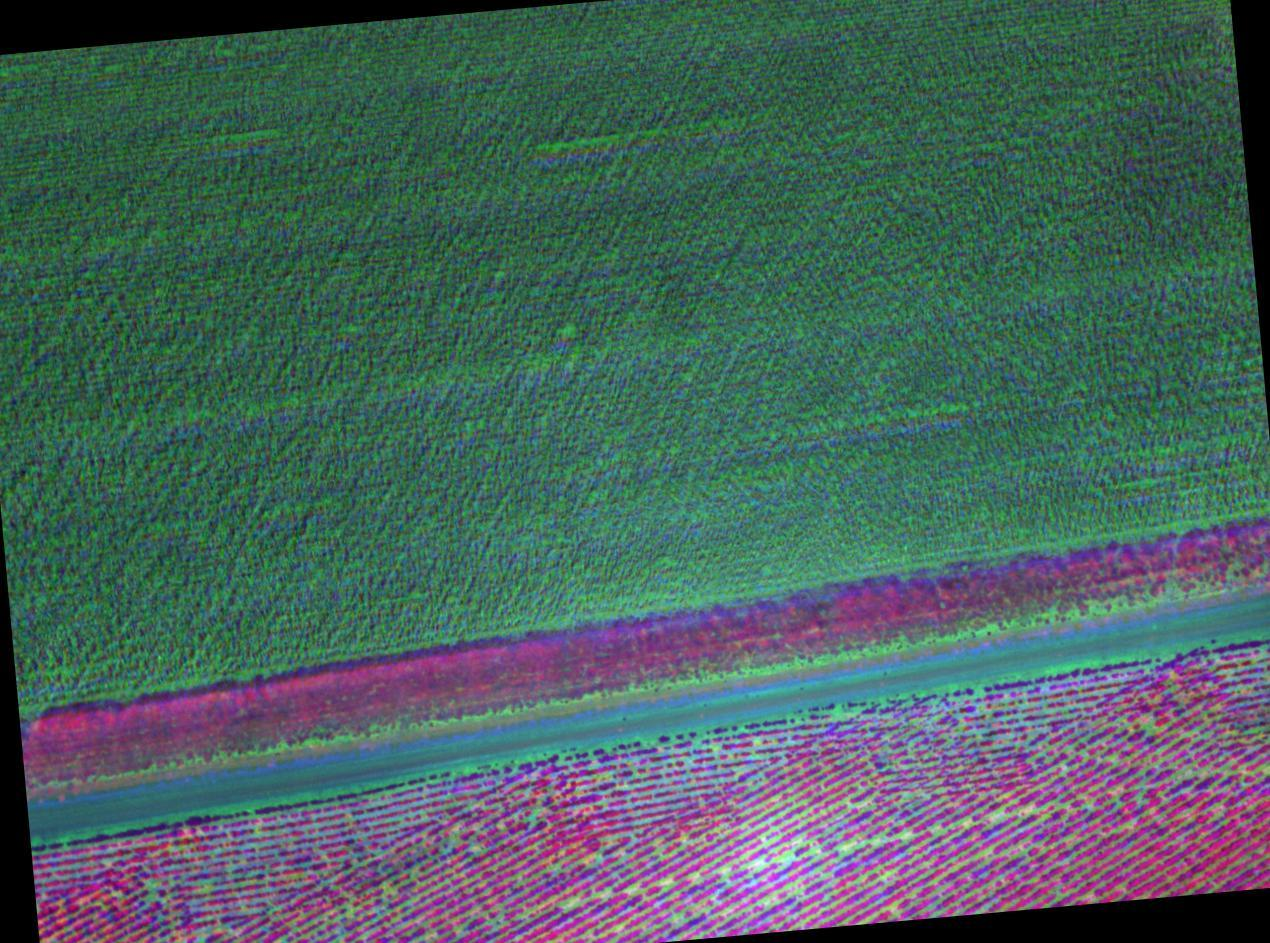dc: (724, 867, 729, 871), (756, 743, 760, 747), (823, 767, 827, 770), (848, 840, 852, 843), (812, 849, 816, 852), (787, 853, 790, 857), (759, 859, 763, 862), (928, 727, 931, 730), (984, 851, 987, 854), (1033, 878, 1036, 881)
